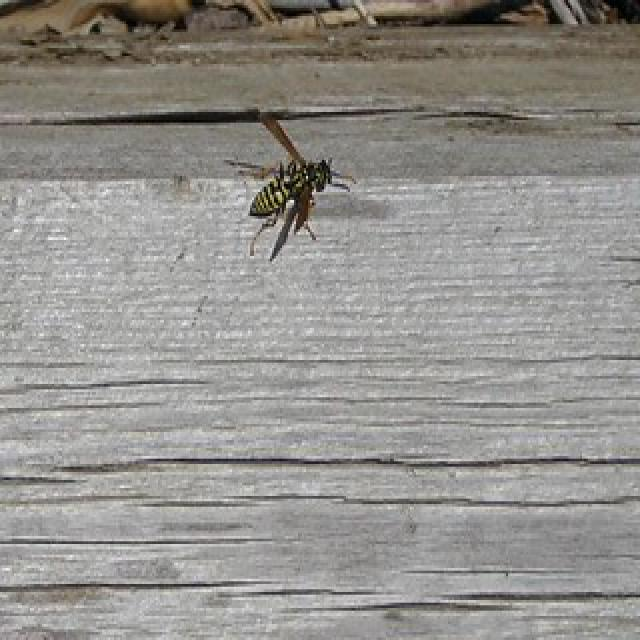Guepe: (212, 91, 364, 258)
